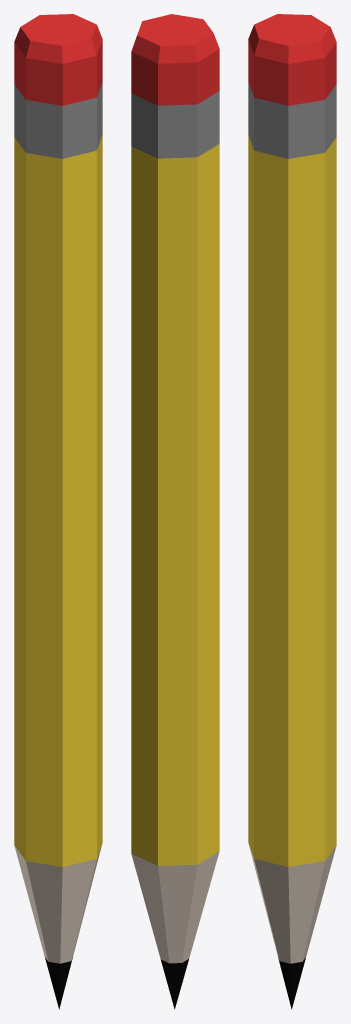
File: Pencil Half.fbx
3 views of the same model, side by side, from view 1: azimuth 30°, elevation 25°; view 2: azimuth 210°, elevation 25°; view 3: azimuth 330°, elevation 25° (orthographic).
Parts seen in each view (by area): view 1: Cylinder.001, Cylinder; view 2: Cylinder.001, Cylinder; view 3: Cylinder.001, Cylinder.
Part boxes in pixels (x1=…): Cylinder.001: x1=14, y1=14, x2=102, y2=512; Cylinder: x1=14, y1=489, x2=102, y2=1009; Cylinder.001: x1=131, y1=14, x2=219, y2=512; Cylinder: x1=131, y1=497, x2=219, y2=1009; Cylinder.001: x1=248, y1=14, x2=336, y2=512; Cylinder: x1=248, y1=489, x2=336, y2=1009.
Size of the model in its own units: 67.76 by 826 by 66.06.
